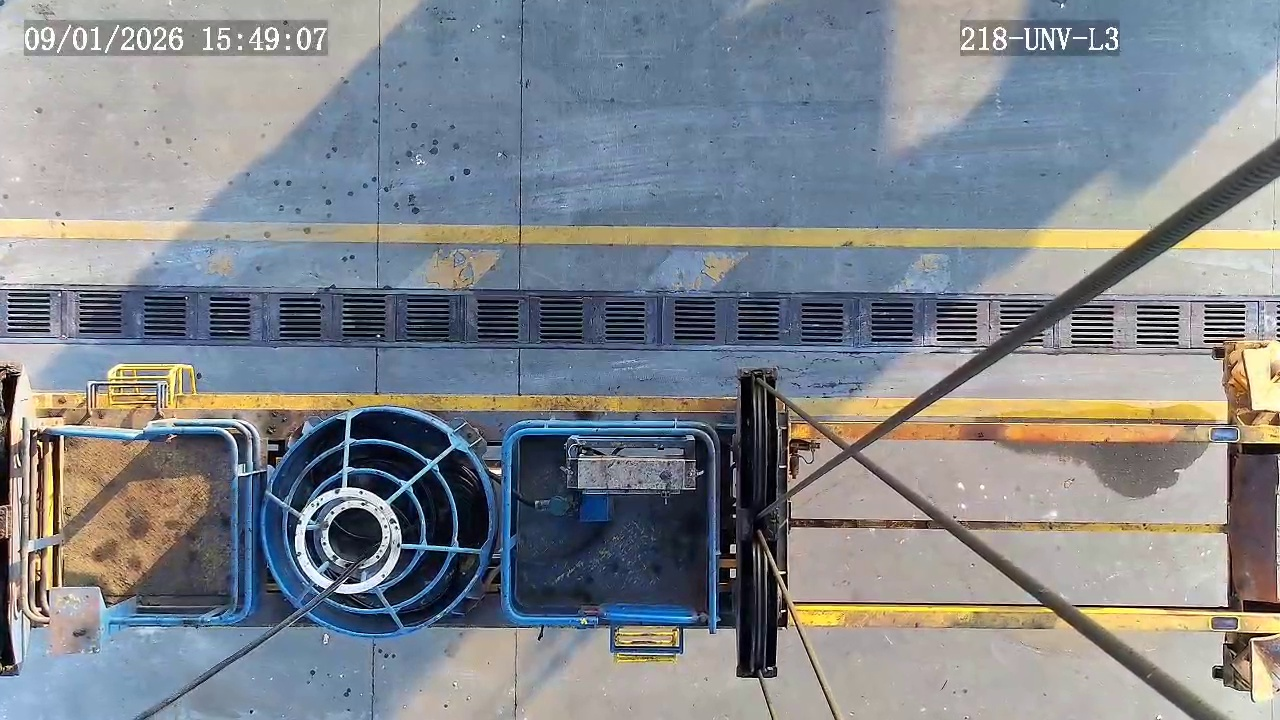right: (262, 406, 492, 637)
